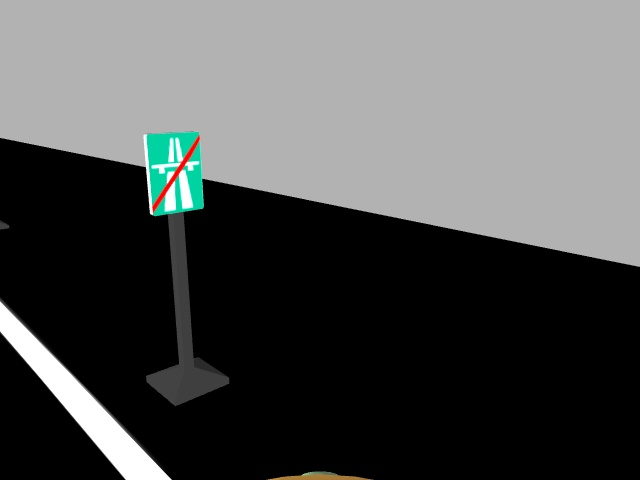HighwayExit: (141, 130, 204, 215)
